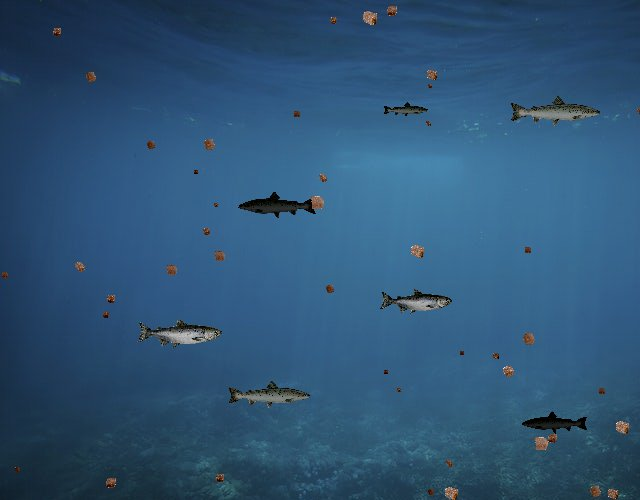Fish: (508, 95, 602, 129), (226, 379, 312, 410), (136, 318, 222, 349), (238, 190, 319, 219), (379, 288, 452, 315), (522, 410, 590, 434), (383, 101, 430, 118)
Pellet: (516, 326, 542, 352), (496, 359, 521, 384), (68, 256, 90, 278), (488, 349, 502, 363), (210, 199, 220, 210)
